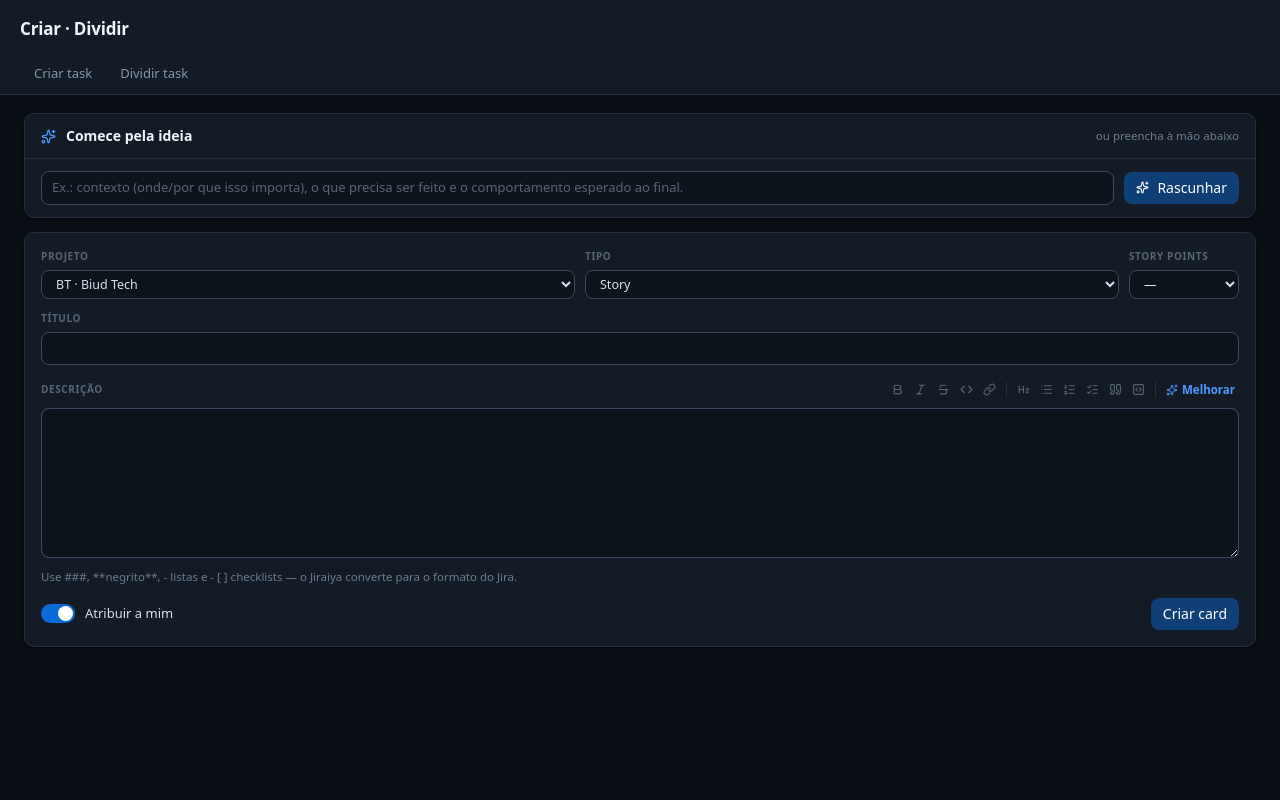
Test: Create › gera com IA e preenche título/descrição
Check: the text "Comece pela ideia" is shown, box top-left (41, 126), bottom-right (192, 146)
In the field named "Descreva a ideia da task": {"x": 578, "y": 188} top-left (41, 171), bottom-right (1114, 204), type "permitir login via OAuth do Google"
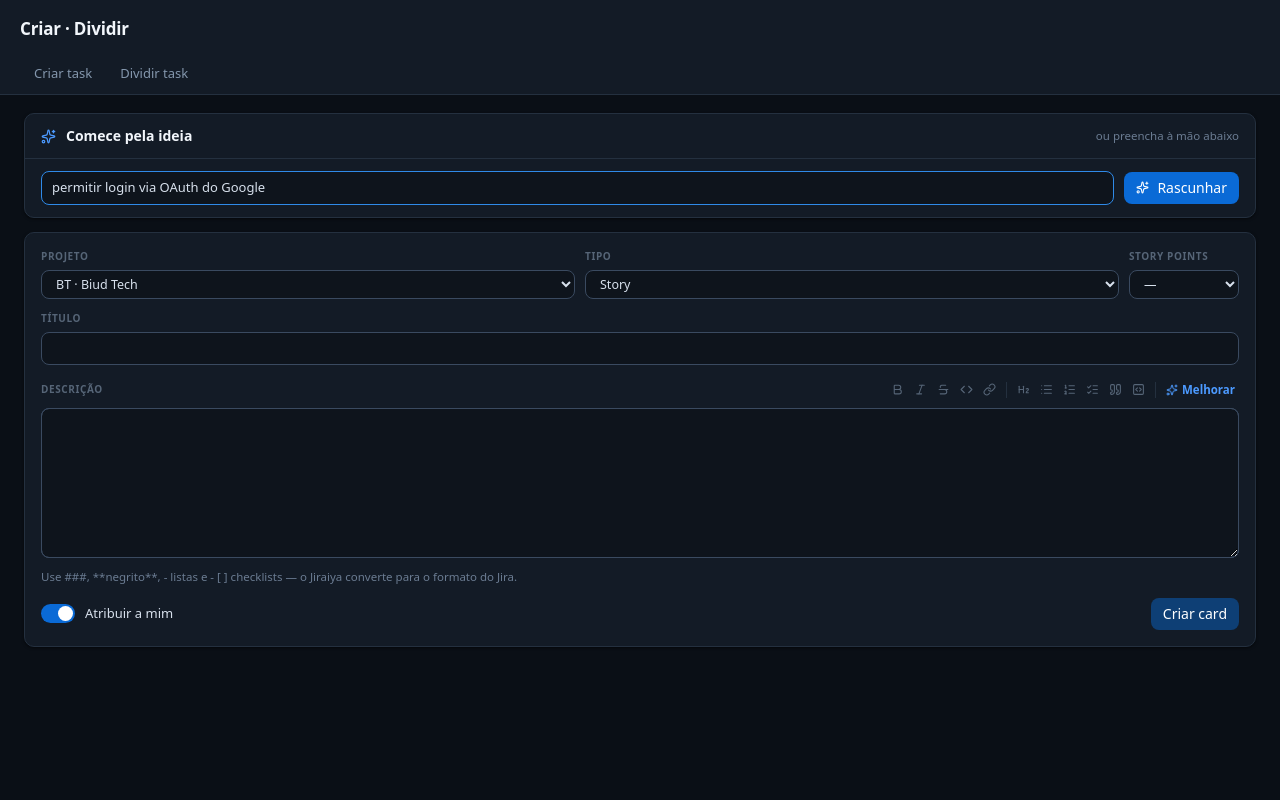
Click the button "Rascunhar": {"x": 1182, "y": 188} top-left (1124, 172), bottom-right (1239, 204)
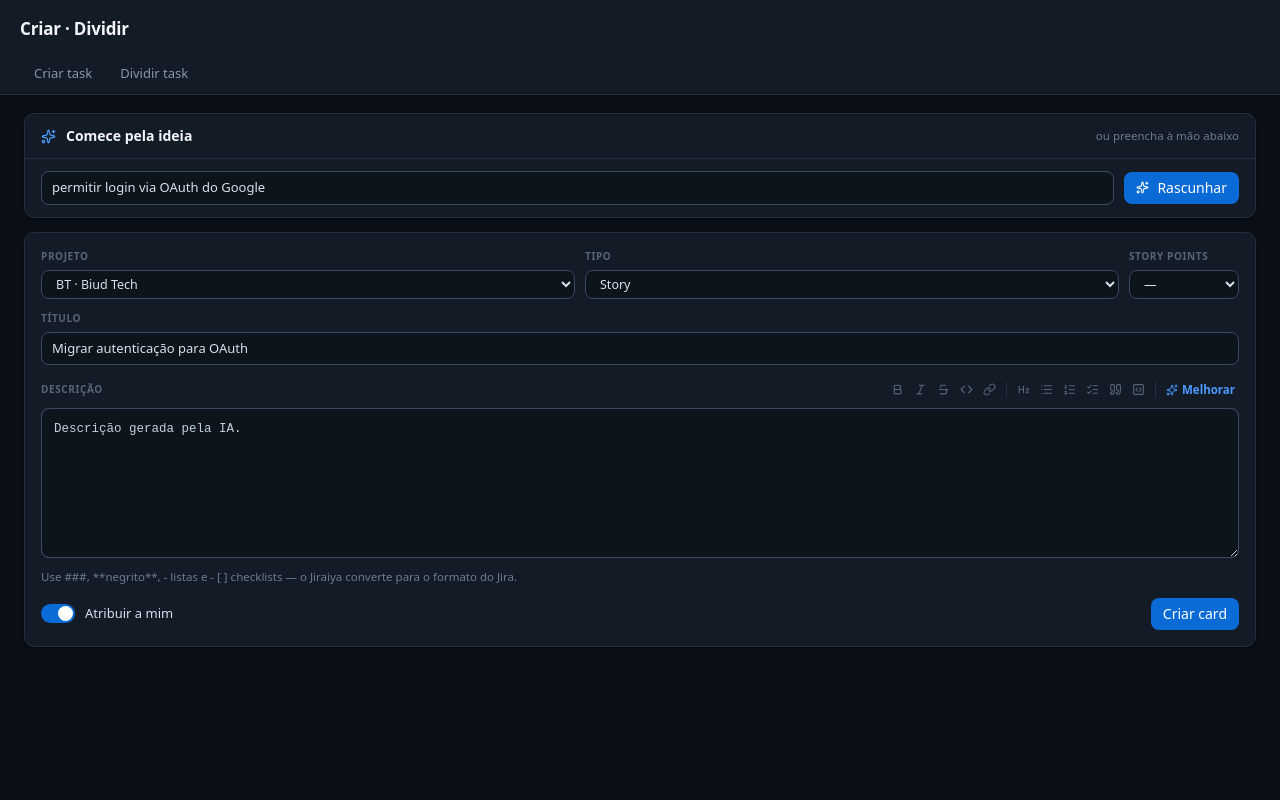
Check: the field labelled "Título" holds "Migrar autenticação para OAuth", box top-left (41, 332), bottom-right (1239, 365)
